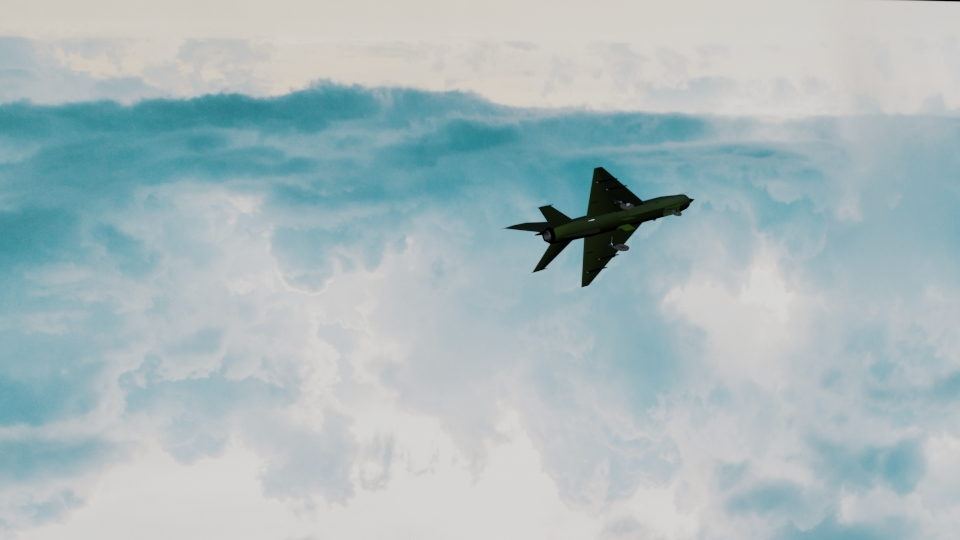plane: (506, 164, 693, 285)
